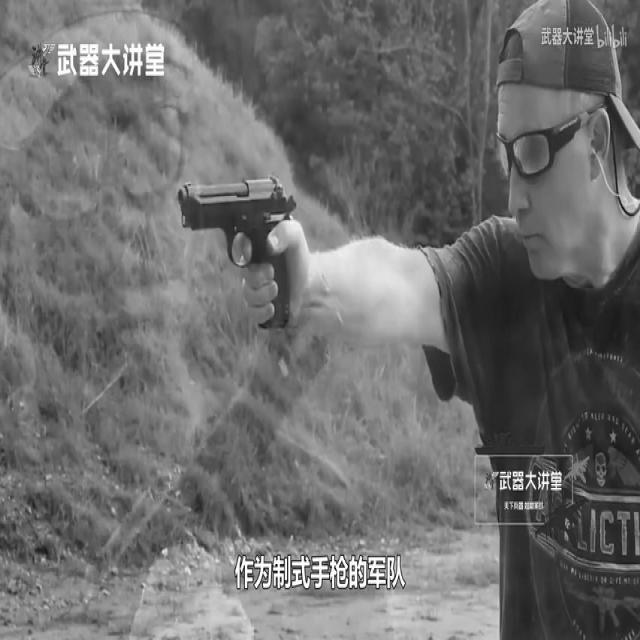Hand-Gun: (166, 124, 364, 388)
